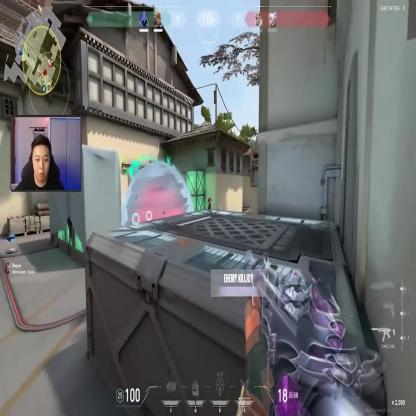enemy: (207, 196, 212, 218)
enemy_head: (208, 196, 210, 199)
